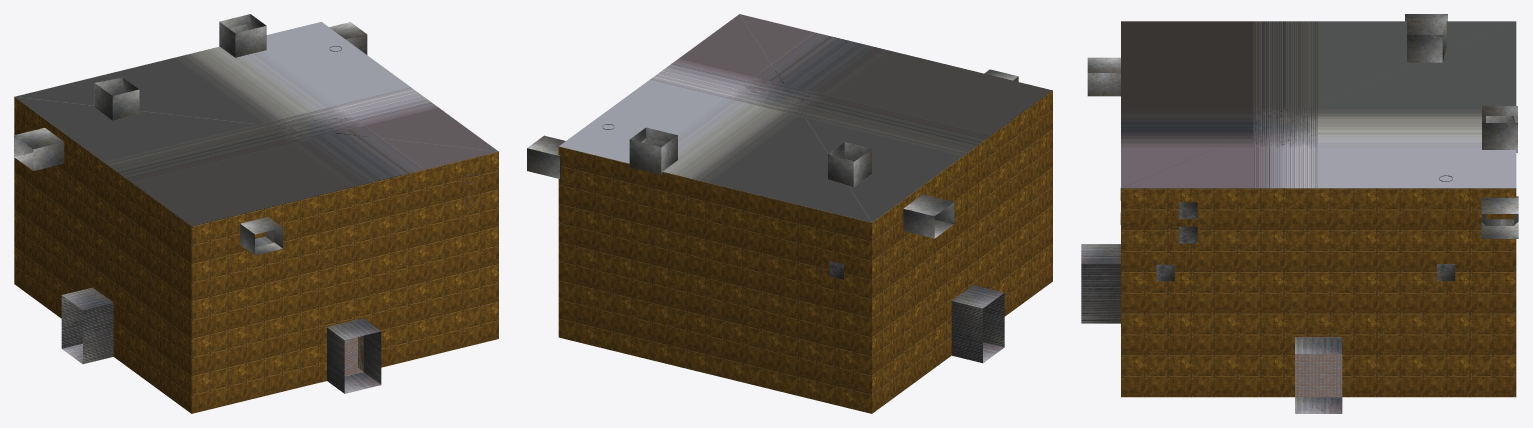
The model's file is room_2.fbx.
3 renders of one model, left to right at view 1: azimuth 30°, elevation 25°; view 2: azimuth 150°, elevation 25°; view 3: azimuth 270°, elevation 25°, orthographic. The views are drawn at different scales.
Visible parts, largest first — view 1: Plane.002, Plane.004, Plane.001, Plane.003, Plane.006, Floor2; view 2: Plane.002, Plane.004, Plane.001, Plane.003; view 3: Plane.002, Plane.004, Plane.001, Plane.006, Floor2, Plane.005.
Part boxes in pixels (<box>): Plane.002: <box>14,97,498,413</box>; Plane.004: <box>14,22,498,226</box>; Plane.001: <box>14,14,367,255</box>; Plane.003: <box>61,287,113,364</box>; Plane.006: <box>327,318,381,393</box>; Floor2: <box>103,295,363,376</box>; Plane.002: <box>558,90,1052,413</box>; Plane.004: <box>559,14,1052,222</box>; Plane.001: <box>527,69,1018,238</box>; Plane.003: <box>951,285,1004,363</box>; Plane.002: <box>1121,188,1516,397</box>; Plane.004: <box>1121,21,1516,188</box>; Plane.001: <box>1087,14,1518,238</box>; Plane.006: <box>1081,244,1120,323</box>; Floor2: <box>1295,337,1342,397</box>; Plane.005: <box>1295,337,1342,413</box>.
Bounding box in the file's own units: 1201 × 661 × 1106.
